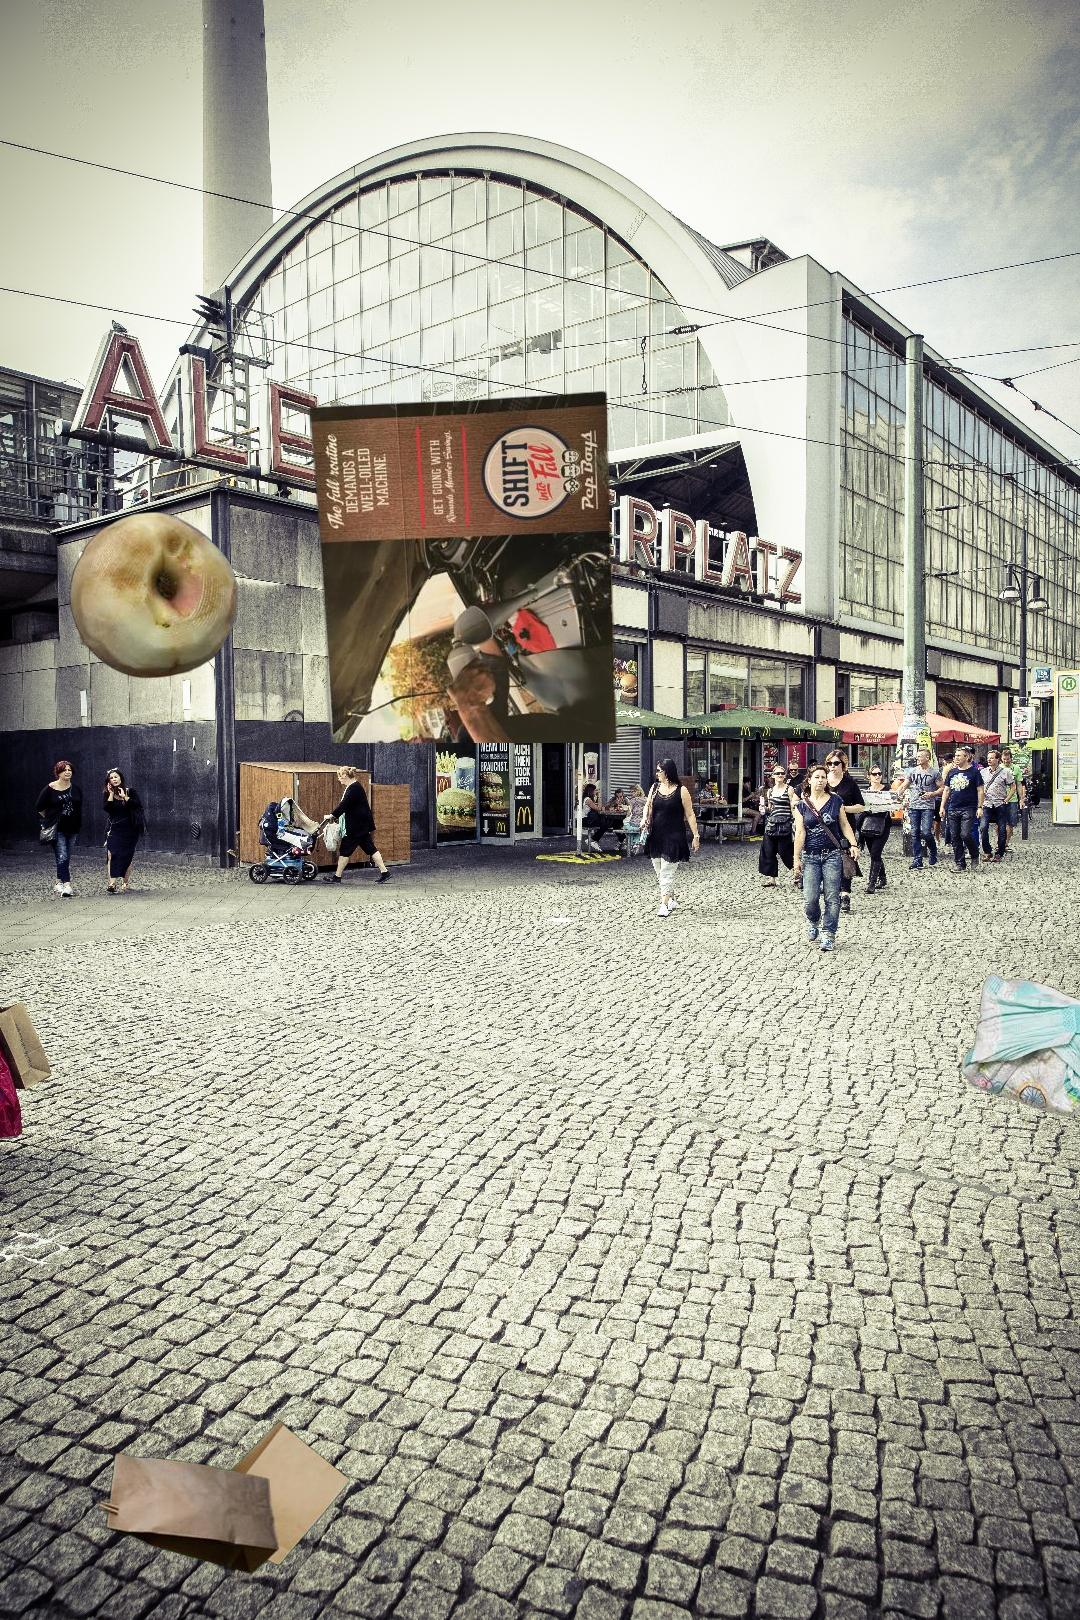biological: (67, 509, 241, 680)
clothes: (258, 1601, 632, 1620)
paper: (305, 389, 621, 742)
paper-bag: (92, 1420, 351, 1575)
trash: (959, 972, 1080, 1119)
